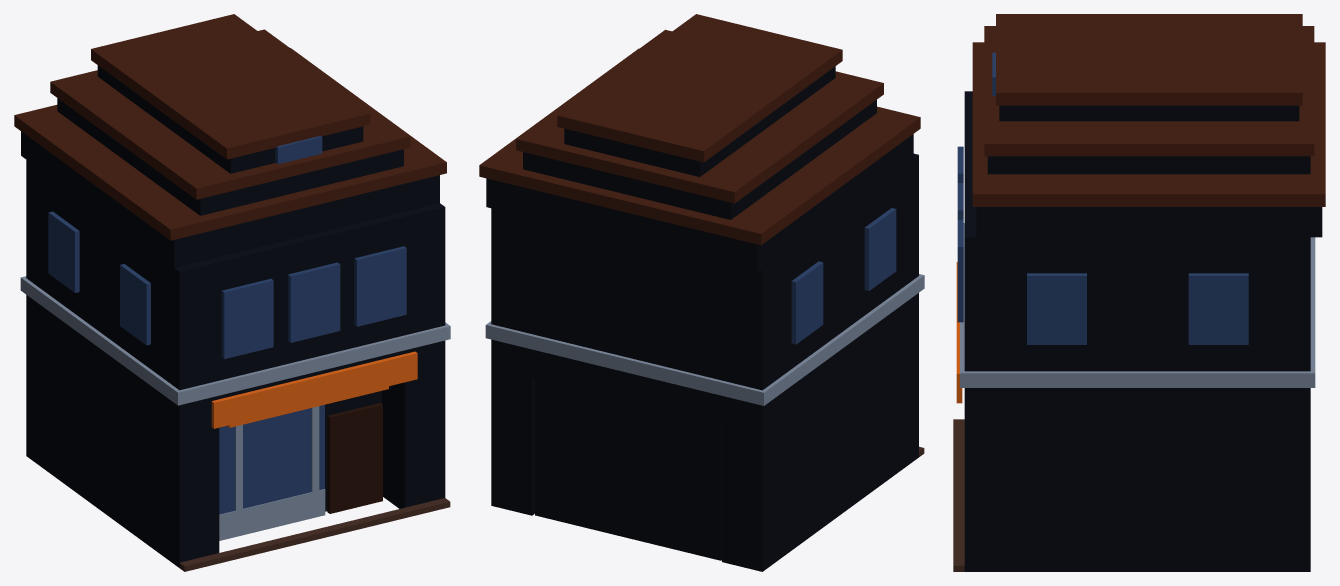
File: highstreet3.obj
The picture shows the model from 3 angles, left to right: view 1: azimuth 30°, elevation 25°; view 2: azimuth 150°, elevation 25°; view 3: azimuth 270°, elevation 25°; orthographic projection. The views are drawn at different scales.
Visible parts, largest first — view 1: step-copings, ground-piers, upper-floor, gable-steps, upper-windows, shopfront, floor-band, fascia-sign, shop-door, mullions, side-windows, pavement (+4 smaller); view 2: step-copings, upper-floor, ground-piers, ground-back, gable-steps, floor-band, shopfront-head, side-windows; view 3: ground-piers, step-copings, upper-floor, gable-steps, side-windows, floor-band, pavement, upper-windows, fascia-sign.
Part boxes in pixels (box(x1,y1,x2,y2)): step-copings: box(14, 14, 446, 240); ground-piers: box(26, 295, 445, 567); upper-floor: box(26, 160, 445, 390); gable-steps: box(21, 65, 439, 267); upper-windows: box(221, 246, 406, 359); shopfront: box(219, 404, 324, 514); floor-band: box(20, 276, 450, 405); fascia-sign: box(211, 351, 417, 428); shop-door: box(327, 403, 382, 513); mullions: box(219, 406, 325, 540); side-windows: box(48, 211, 150, 345); pavement: box(179, 498, 450, 571); step-copings: box(479, 14, 920, 245); upper-floor: box(491, 153, 918, 390); ground-piers: box(491, 293, 918, 571); ground-back: box(535, 379, 721, 560); gable-steps: box(486, 66, 913, 272); floor-band: box(485, 274, 924, 405); shopfront-head: box(532, 349, 721, 424); side-windows: box(791, 208, 896, 344); ground-piers: box(964, 388, 1310, 571); step-copings: box(972, 14, 1325, 206); upper-floor: box(964, 91, 1310, 371); gable-steps: box(976, 105, 1322, 237); side-windows: box(1027, 273, 1248, 344); floor-band: box(960, 223, 1315, 387); pavement: box(953, 419, 964, 571); upper-windows: box(957, 146, 963, 322); fascia-sign: box(956, 262, 962, 403).
Size of the model in its own units: 3.12 by 4.26 by 3.23.
